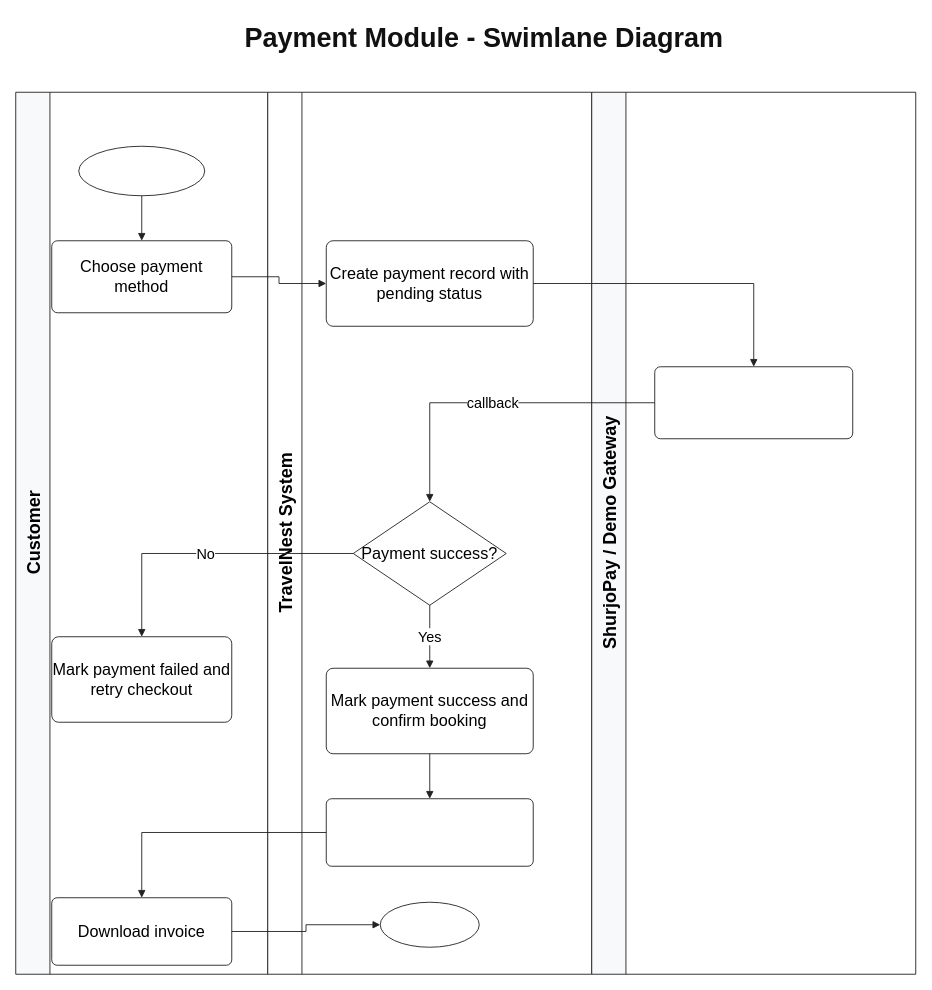
Some shapes in this 932 by 990 pixel diagram are drawn without their labels. Each missing label, with the box of its shape:
End: (379, 901, 479, 947)
Save payment log: (325, 798, 533, 866)
Send payment request: (654, 366, 853, 439)
Start checkout: (78, 145, 205, 196)
